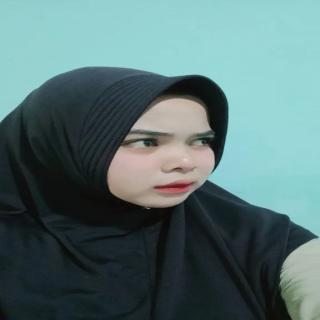Takut: (97, 82, 239, 213)
